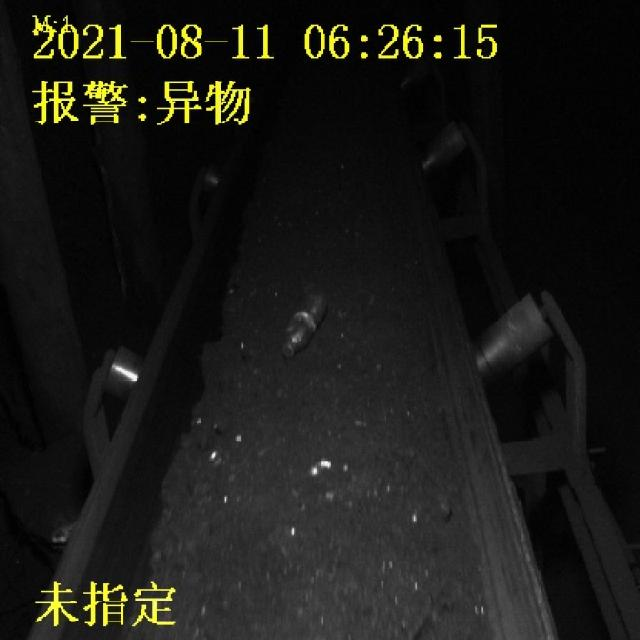Other_garbage: (278, 294, 332, 358)
